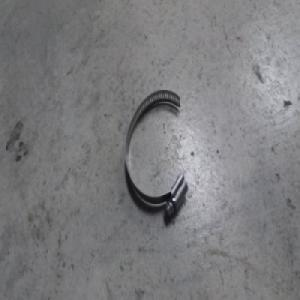AdjustableClamp: (124, 89, 189, 216)
